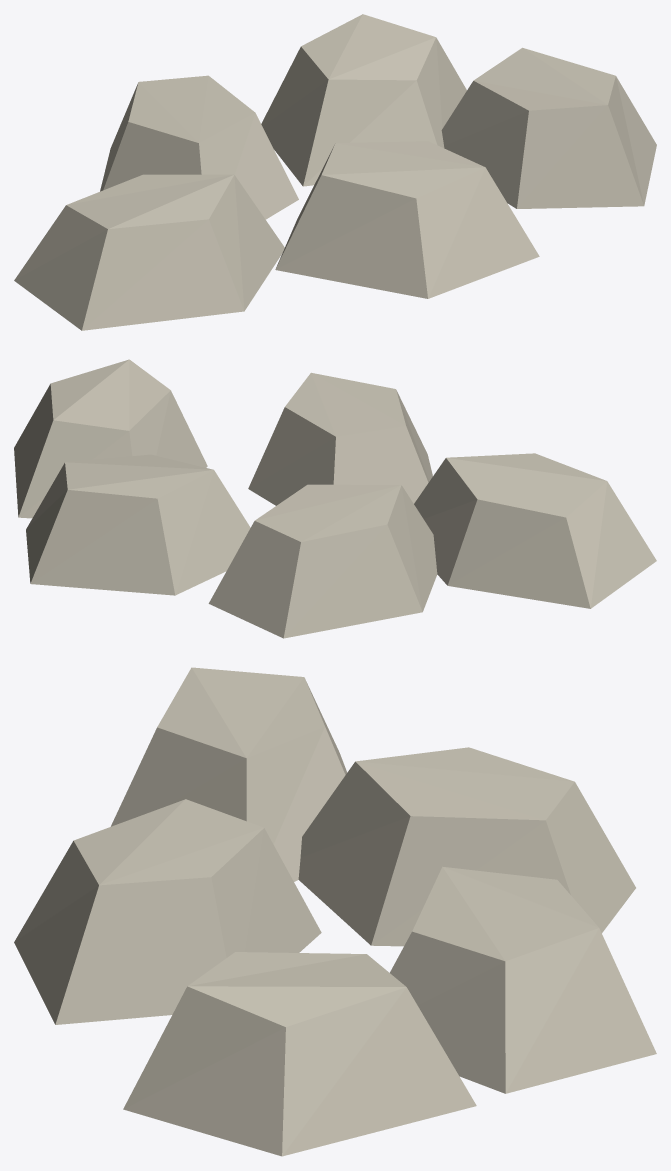
The model's file is item_rm_silver_b.obj.
The picture shows the model from 3 angles, top to bottom: view 1: azimuth 30°, elevation 25°; view 2: azimuth 150°, elevation 25°; view 3: azimuth 270°, elevation 25°; orthographic projection. The views are drawn at different scales.
Bounding box in the file's own units: 0.805 × 0.1077 × 0.5414.
